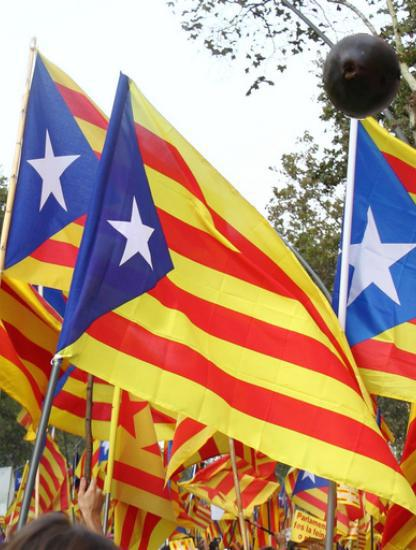Plum: (318, 33, 405, 120)
